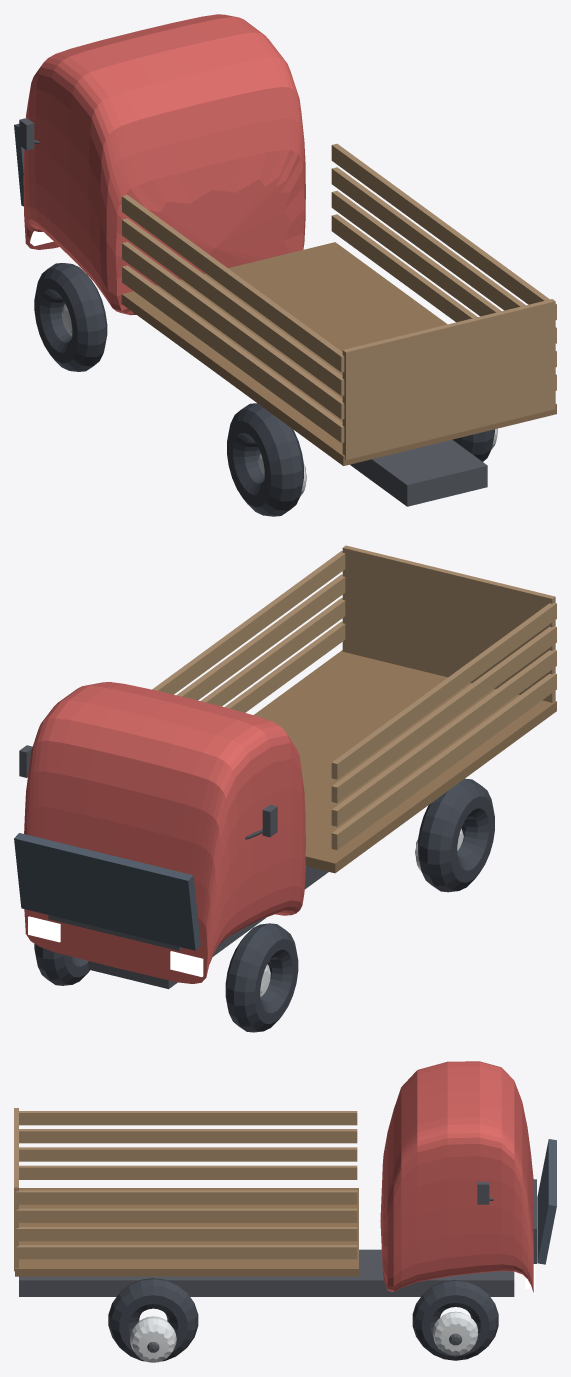
File: truck_vermelho.glb
3 renders of one model, top to bottom at view 1: azimuth 30°, elevation 25°; view 2: azimuth 150°, elevation 25°; view 3: azimuth 270°, elevation 25°, orthographic. The views are drawn at different scales.
Visible parts, largest first — view 1: TruckVermelho, WheelRL, WheelFL, WheelRR; view 2: TruckVermelho, WheelRL, WheelFL, WheelFR; view 3: TruckVermelho, WheelRR, WheelFR.
Boxes of the visible parts, x1,y1,x2,y2 form: TruckVermelho: (14, 14, 556, 506); WheelRL: (227, 403, 306, 516); WheelFL: (34, 263, 107, 371); WheelRR: (453, 428, 498, 461); TruckVermelho: (14, 545, 556, 989); WheelRL: (415, 778, 494, 892); WheelFL: (225, 923, 298, 1032); WheelFR: (34, 943, 89, 985); TruckVermelho: (14, 1061, 556, 1296); WheelRR: (108, 1278, 198, 1362); WheelFR: (412, 1279, 498, 1360).
Bounding box in the file's own units: 2.75 × 3.08 × 6.47.
